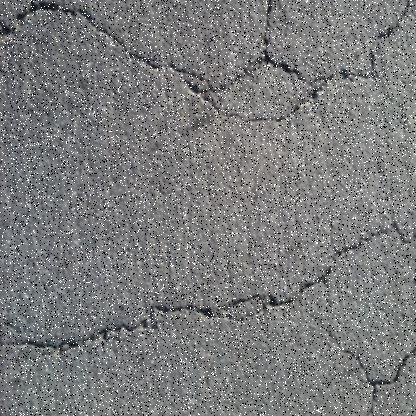Cracks: (0, 214, 415, 415), (0, 0, 415, 134)
